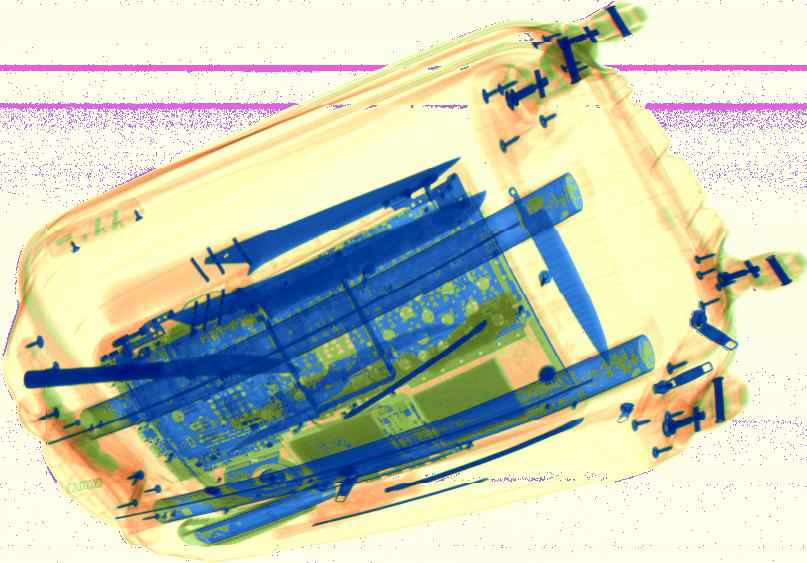Knife: (107, 154, 465, 321), (173, 186, 491, 327), (507, 183, 614, 367), (22, 354, 300, 389)
